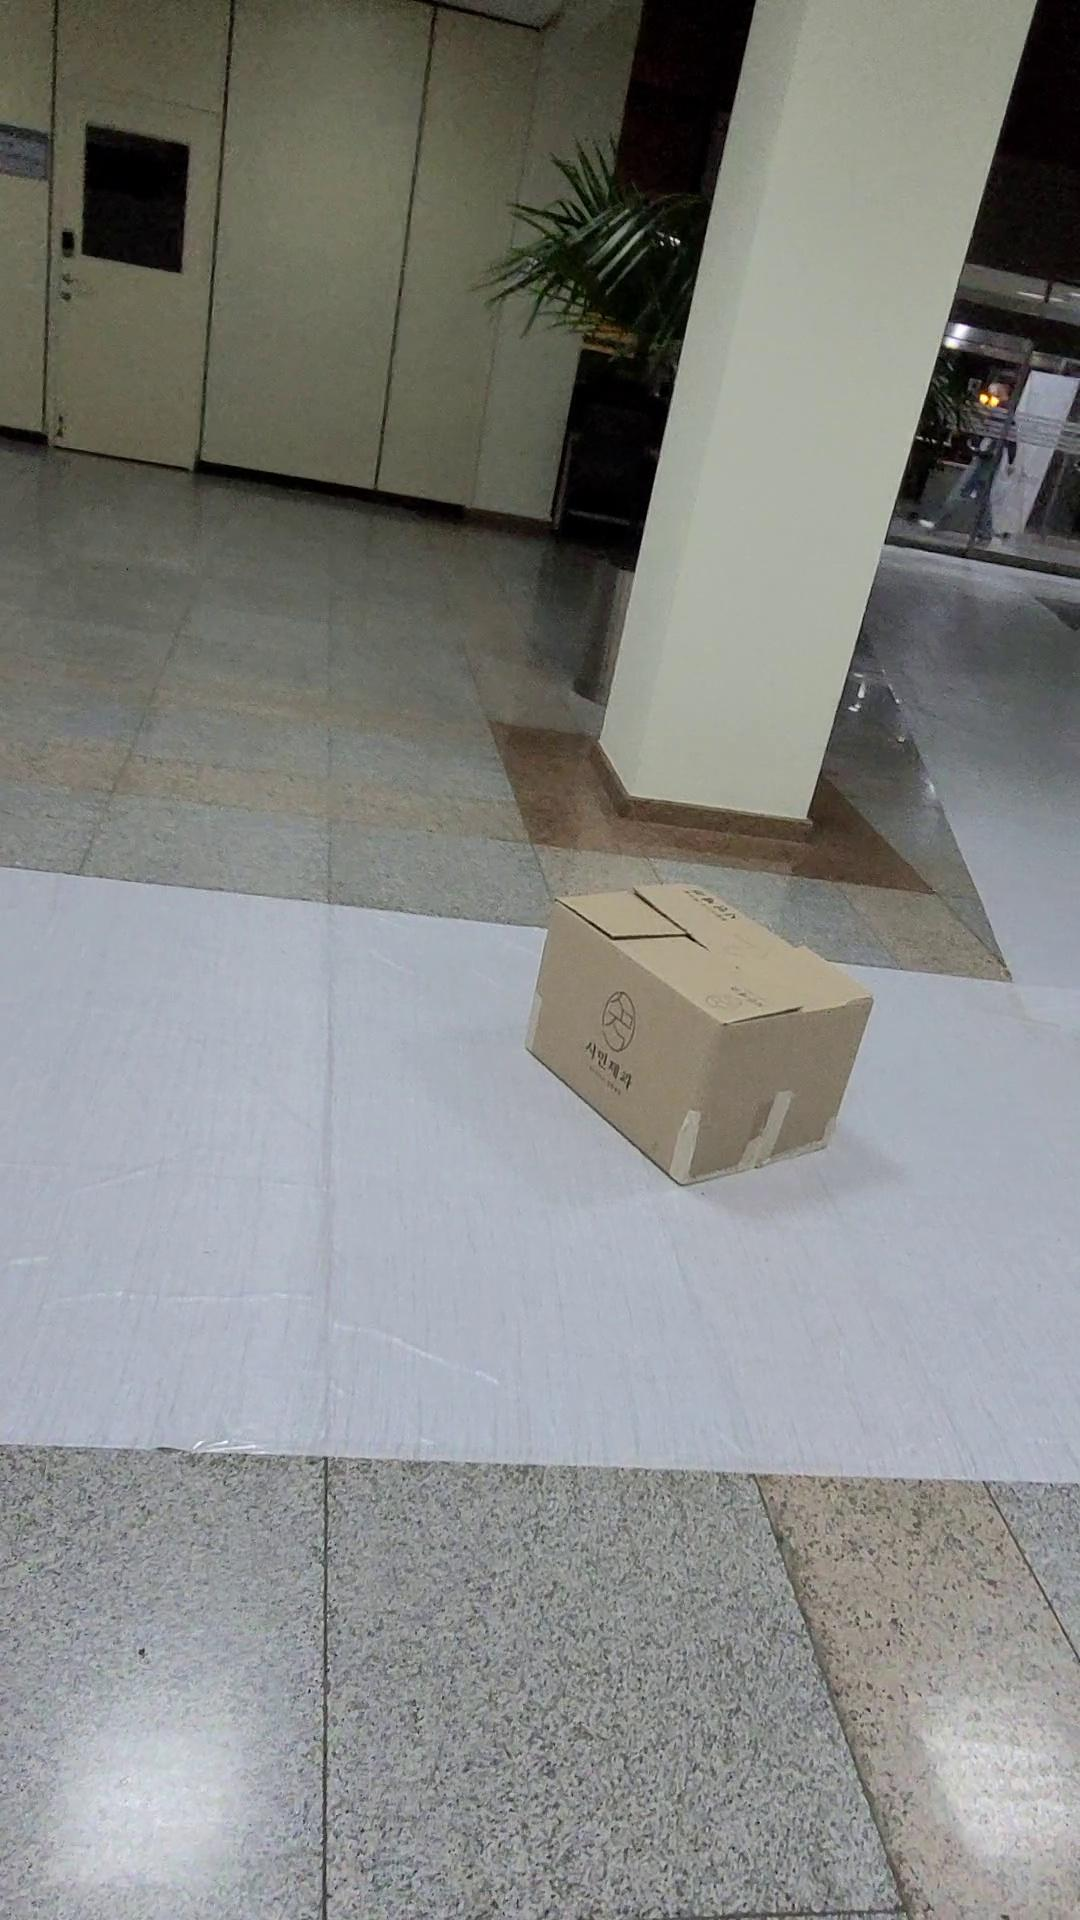Box: (501, 845, 916, 1226)
